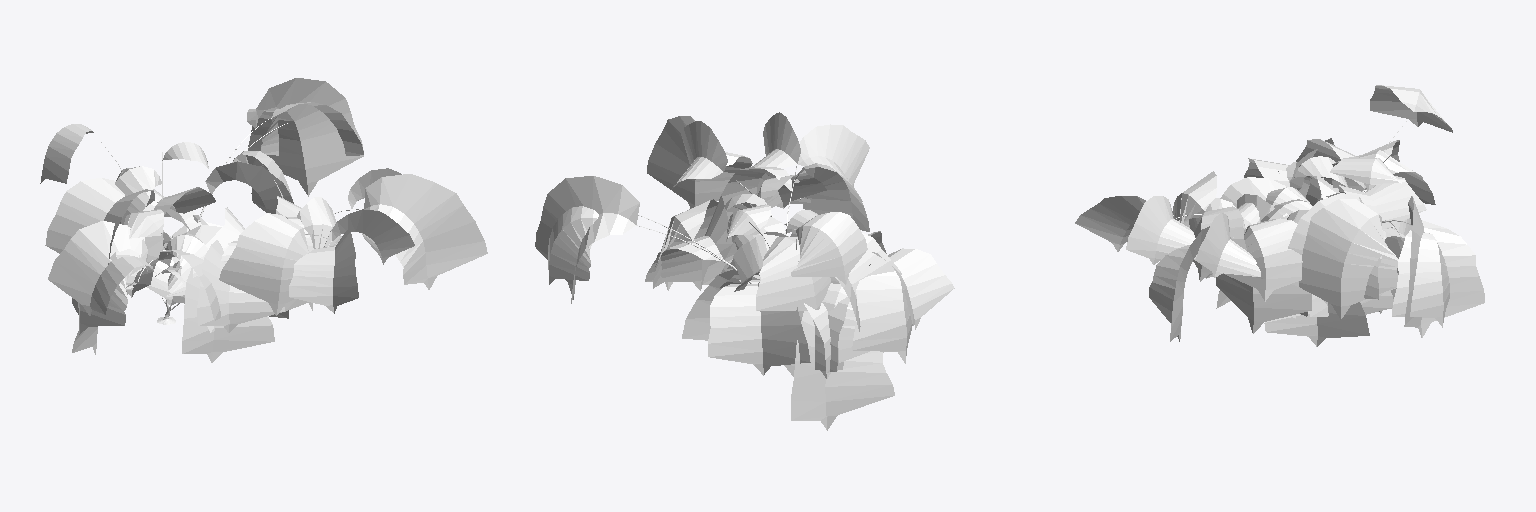
Rendered from bush15.obj.
3 views of the same model, side by side, from view 1: azimuth 30°, elevation 25°; view 2: azimuth 150°, elevation 25°; view 3: azimuth 270°, elevation 25° (orthographic).
Parts seen in each view (by area): view 1: tree; view 2: tree; view 3: tree.
Boxes of the visible parts, <box> form: tree: <box>40,78,487,362</box>; tree: <box>535,112,954,430</box>; tree: <box>1075,85,1484,346</box>.
Bounding box in the file's own units: 331 × 200 × 333.